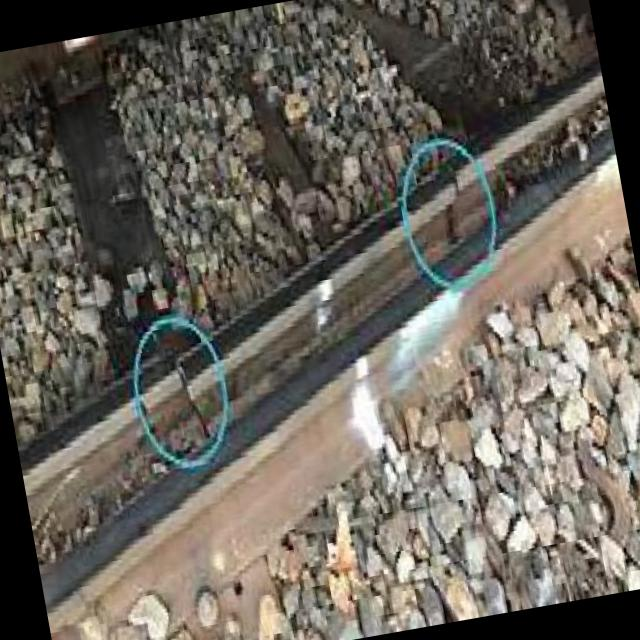defective: (23, 48, 597, 580)
